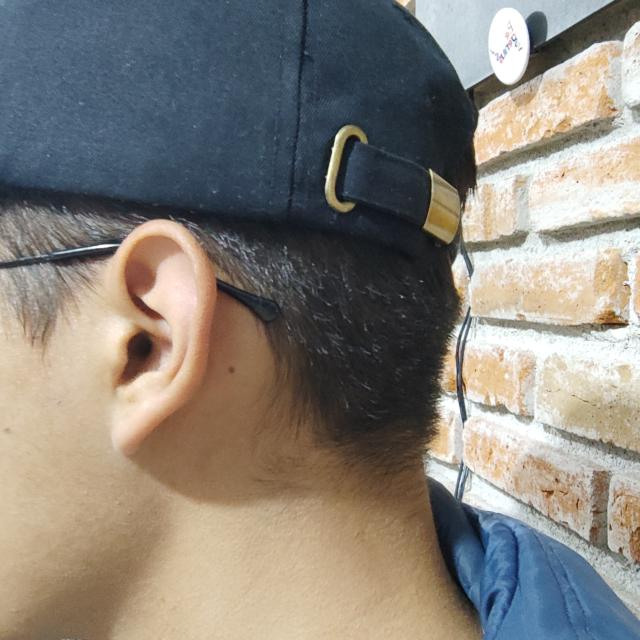ear: (99, 219, 218, 456)
